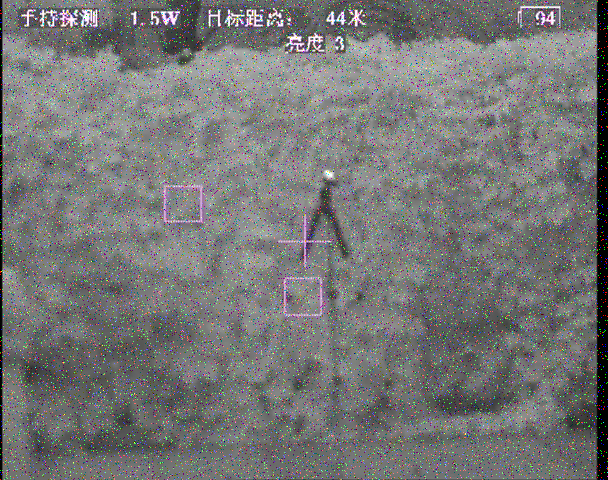my: (322, 168, 333, 180)
